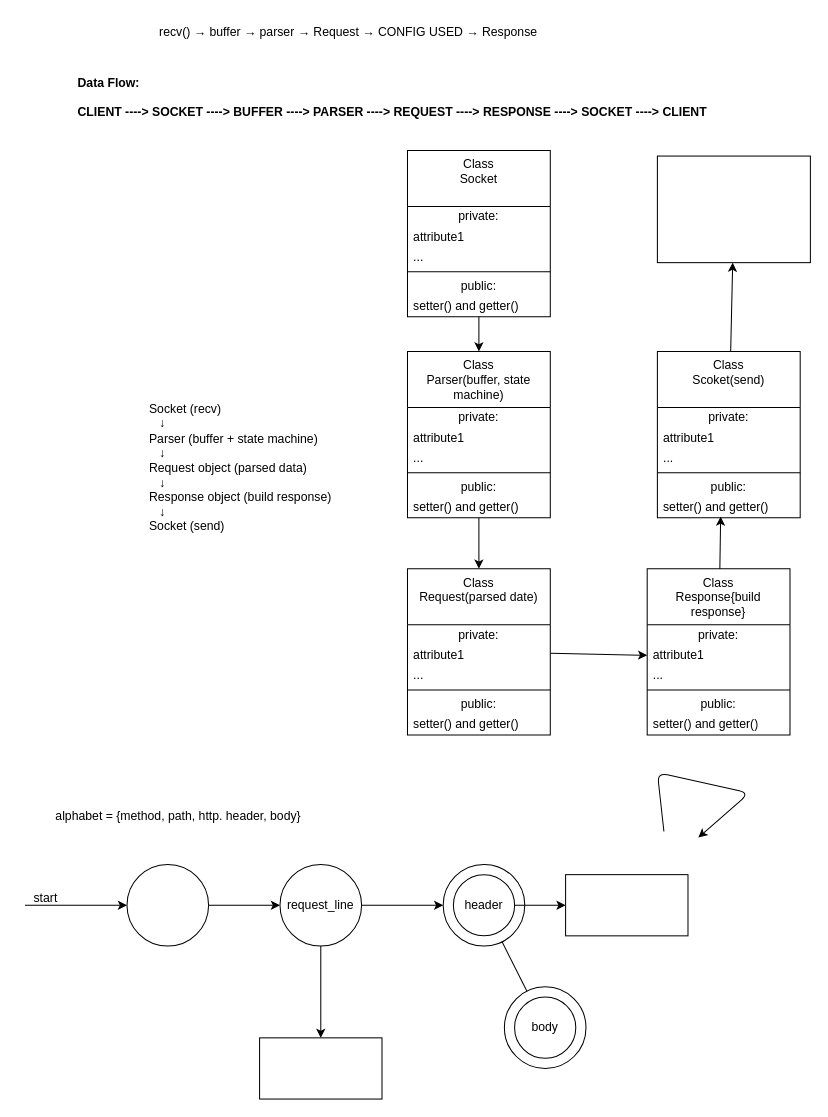
This 828x1117 diagram has some shape labels left out. Each missing label, with the centre of its shape:
"Browser" belongs at point 733,209.
"parse first line: extract method, path, http" belongs at point 320,1068.
"q0" belongs at point 167,904.
